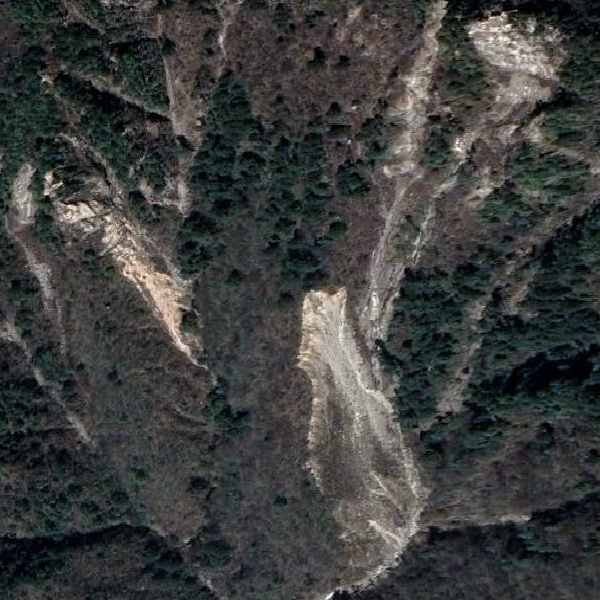slope: (5, 157, 211, 376), (293, 280, 422, 557), (439, 8, 572, 206)
